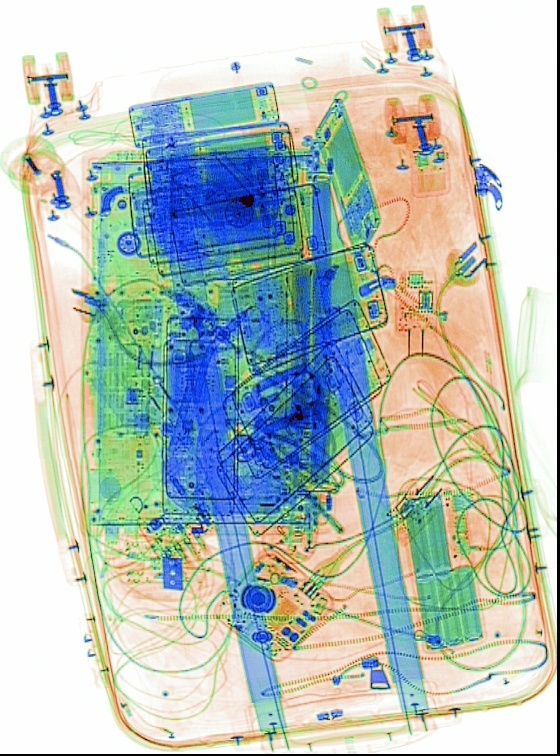powerbank: (398, 486, 487, 656)
